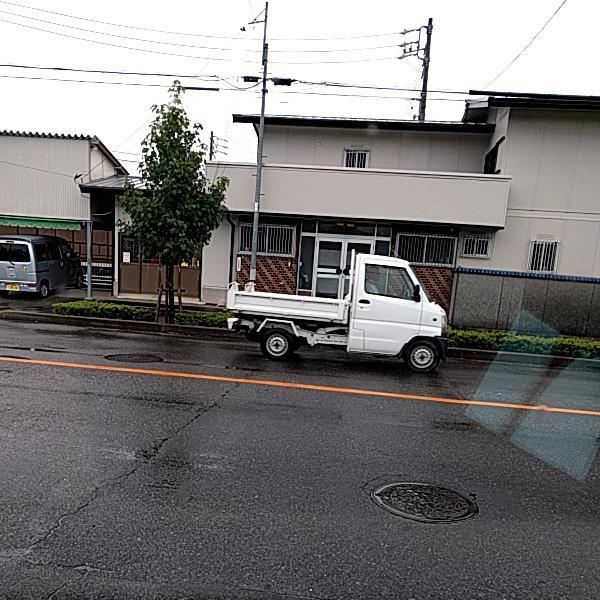D50: (369, 481, 477, 523), (100, 351, 163, 363)
